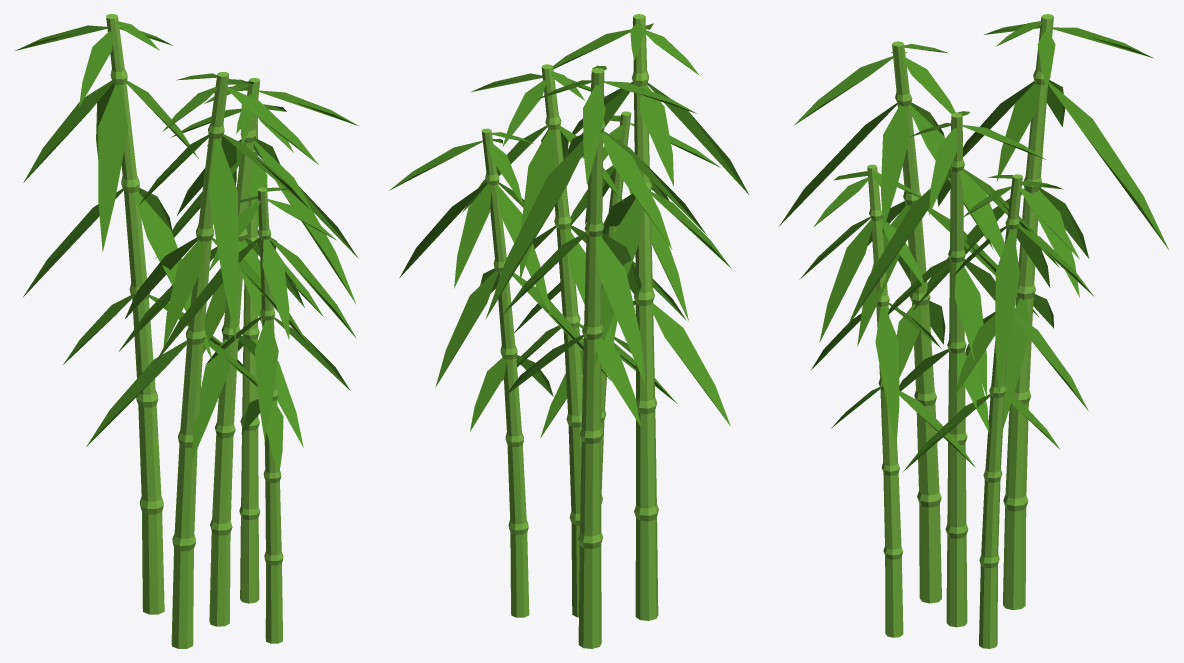
Rendered from BambooCluster_LOD0_roblox.fbx.
3 renders of one model, left to right at view 1: azimuth 30°, elevation 25°; view 2: azimuth 150°, elevation 25°; view 3: azimuth 270°, elevation 25°, orthographic. The views are drawn at different scales.
Visible parts, largest first — view 1: Bamboo_5_BambooLeafMat_003, Bamboo_3_BambooLeafMat_003, Bamboo_3_BambooStalkMat_003, Bamboo_5_BambooStalkMat_003, Bamboo_4_BambooLeafMat_003, Bamboo_1_BambooLeafMat_003, Bamboo_1_BambooStalkMat_003, Bamboo_2_BambooStalkMat_003, Bamboo_4_BambooStalkMat_003, Bamboo_2_BambooLeafMat_003; view 2: Bamboo_3_BambooLeafMat_003, Bamboo_3_BambooStalkMat_003, Bamboo_5_BambooLeafMat_003, Bamboo_5_BambooStalkMat_003, Bamboo_2_BambooLeafMat_003, Bamboo_2_BambooStalkMat_003, Bamboo_1_BambooLeafMat_003, Bamboo_1_BambooStalkMat_003, Bamboo_4_BambooLeafMat_003, Bamboo_4_BambooStalkMat_003; view 3: Bamboo_3_BambooLeafMat_003, Bamboo_1_BambooLeafMat_003, Bamboo_5_BambooLeafMat_003, Bamboo_2_BambooLeafMat_003, Bamboo_3_BambooStalkMat_003, Bamboo_5_BambooStalkMat_003, Bamboo_1_BambooStalkMat_003, Bamboo_4_BambooLeafMat_003, Bamboo_2_BambooStalkMat_003, Bamboo_4_BambooStalkMat_003.
Part boxes in pixels (x1=…): Bamboo_5_BambooLeafMat_003: x1=86, y1=73, x2=318, y2=446; Bamboo_3_BambooLeafMat_003: x1=15, y1=21, x2=242, y2=366; Bamboo_3_BambooStalkMat_003: x1=106, y1=14, x2=164, y2=614; Bamboo_5_BambooStalkMat_003: x1=171, y1=72, x2=229, y2=648; Bamboo_4_BambooLeafMat_003: x1=155, y1=187, x2=356, y2=474; Bamboo_1_BambooLeafMat_003: x1=118, y1=84, x2=358, y2=462; Bamboo_1_BambooStalkMat_003: x1=209, y1=78, x2=259, y2=626; Bamboo_2_BambooStalkMat_003: x1=239, y1=117, x2=260, y2=603; Bamboo_4_BambooStalkMat_003: x1=257, y1=187, x2=283, y2=643; Bamboo_2_BambooLeafMat_003: x1=156, y1=104, x2=358, y2=447; Bamboo_3_BambooLeafMat_003: x1=485, y1=65, x2=706, y2=426; Bamboo_3_BambooStalkMat_003: x1=578, y1=68, x2=605, y2=648; Bamboo_5_BambooLeafMat_003: x1=552, y1=22, x2=748, y2=426; Bamboo_5_BambooStalkMat_003: x1=632, y1=14, x2=658, y2=620; Bamboo_2_BambooLeafMat_003: x1=389, y1=132, x2=610, y2=431; Bamboo_2_BambooStalkMat_003: x1=481, y1=128, x2=529, y2=617; Bamboo_1_BambooLeafMat_003: x1=462, y1=71, x2=676, y2=403; Bamboo_1_BambooStalkMat_003: x1=541, y1=64, x2=582, y2=617; Bamboo_4_BambooLeafMat_003: x1=514, y1=115, x2=720, y2=437; Bamboo_4_BambooStalkMat_003: x1=601, y1=111, x2=631, y2=503; Bamboo_3_BambooLeafMat_003: x1=913, y1=21, x2=1168, y2=431; Bamboo_1_BambooLeafMat_003: x1=847, y1=111, x2=1059, y2=433; Bamboo_5_BambooLeafMat_003: x1=779, y1=44, x2=1039, y2=377; Bamboo_2_BambooLeafMat_003: x1=902, y1=175, x2=1093, y2=472; Bamboo_3_BambooStalkMat_003: x1=1003, y1=14, x2=1053, y2=610; Bamboo_5_BambooStalkMat_003: x1=892, y1=41, x2=941, y2=603; Bamboo_1_BambooStalkMat_003: x1=945, y1=113, x2=968, y2=627; Bamboo_4_BambooLeafMat_003: x1=799, y1=171, x2=975, y2=467; Bamboo_2_BambooStalkMat_003: x1=979, y1=174, x2=1022, y2=648; Bamboo_4_BambooStalkMat_003: x1=867, y1=164, x2=903, y2=637.
Size of the model in its own units: 3.31 by 3.75 by 6.11.
